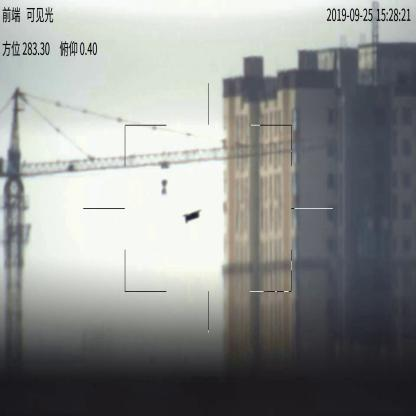uav: (184, 211, 200, 225)
